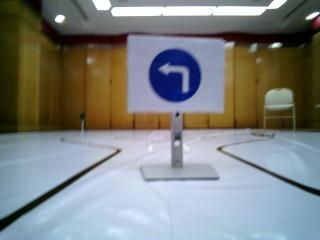left: (129, 36, 219, 109)
